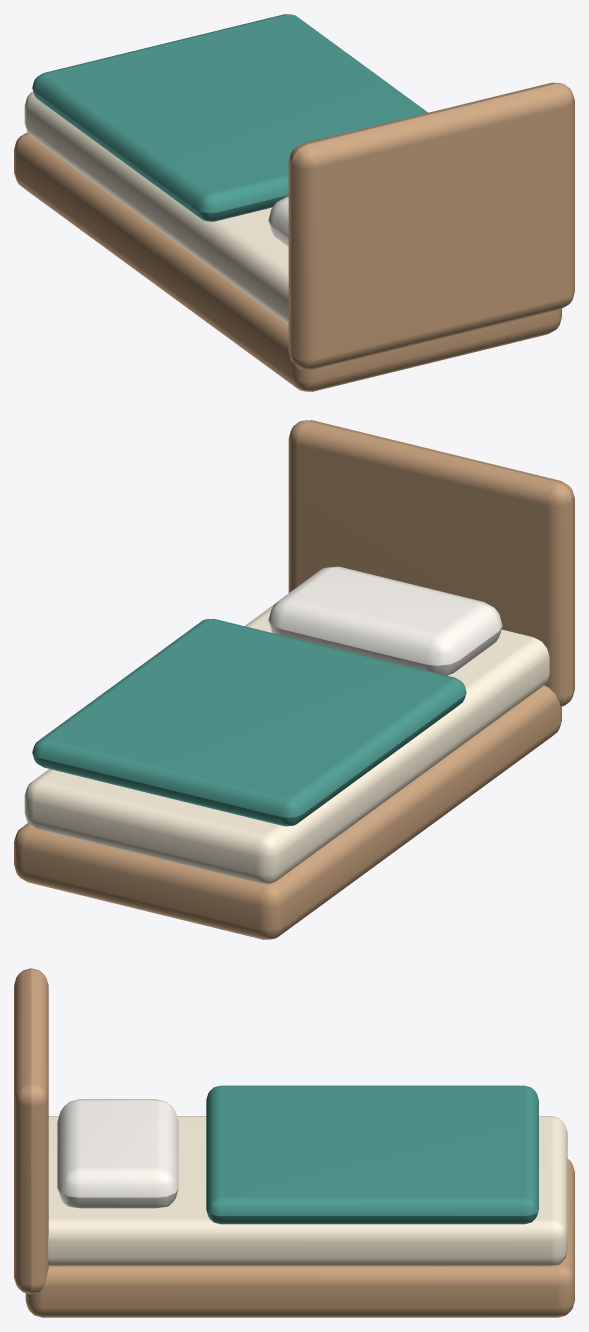
The model's file is word-bed.glb.
3 renders of one model, top to bottom at view 1: azimuth 30°, elevation 25°; view 2: azimuth 150°, elevation 25°; view 3: azimuth 270°, elevation 25°, orthographic. The views are drawn at different scales.
Visible parts, largest first — view 1: headboard, quilt, bed base, soft mattress, pillow; view 2: quilt, headboard, bed base, soft mattress, pillow; view 3: quilt, soft mattress, bed base, pillow, headboard.
Part boxes in pixels (x1=…): headboard: x1=288, y1=82, x2=574, y2=369; quilt: x1=32, y1=14, x2=427, y2=221; bed base: x1=14, y1=132, x2=561, y2=391; soft mattress: x1=24, y1=91, x2=288, y2=324; pillow: x1=268, y1=196, x2=288, y2=246; quilt: x1=32, y1=618, x2=466, y2=826; headboard: x1=288, y1=420, x2=574, y2=706; bed base: x1=14, y1=685, x2=561, y2=939; soft mattress: x1=24, y1=604, x2=549, y2=884; pillow: x1=268, y1=566, x2=502, y2=675; quilt: x1=206, y1=1085, x2=538, y2=1224; soft mattress: x1=48, y1=1116, x2=567, y2=1266; bed base: x1=25, y1=1159, x2=574, y2=1317; pillow: x1=57, y1=1099, x2=178, y2=1208; headboard: x1=14, y1=968, x2=48, y2=1294.
Size of the model in its own units: 1.05 by 0.9 by 1.94.
